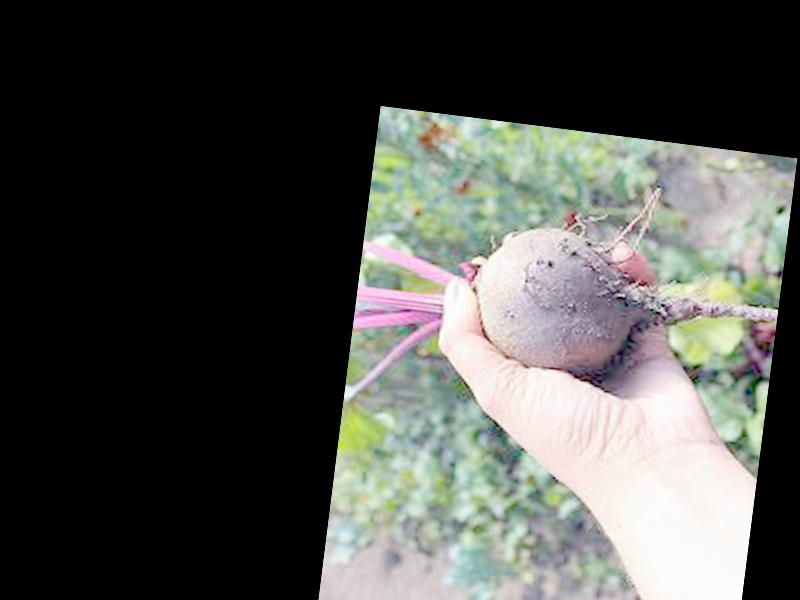Beet: (345, 150, 792, 455)
